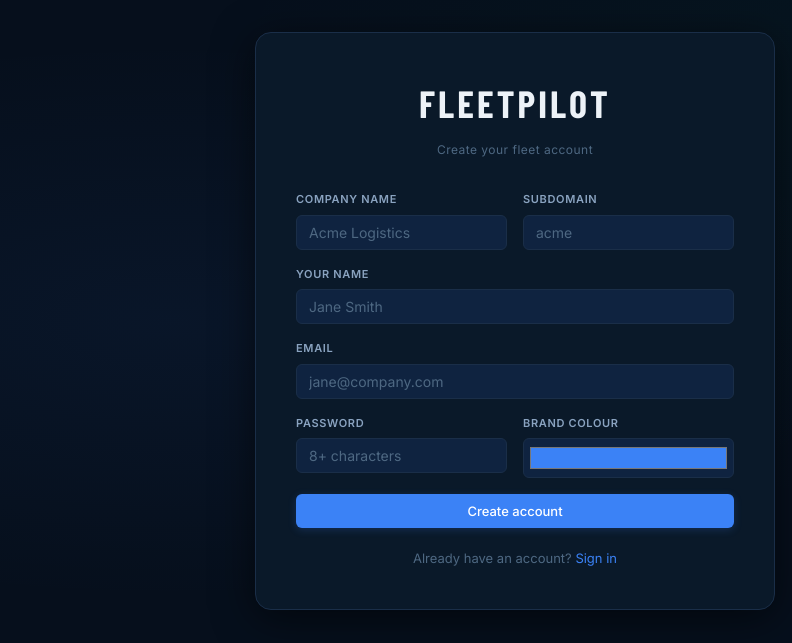
it: Register › shows server error message on failed registration
The image size is (792, 643).
Step 1. Type "My Fleet" into the field with placeholder "Acme Logistics" → (402, 232), box [296,214,507,250]
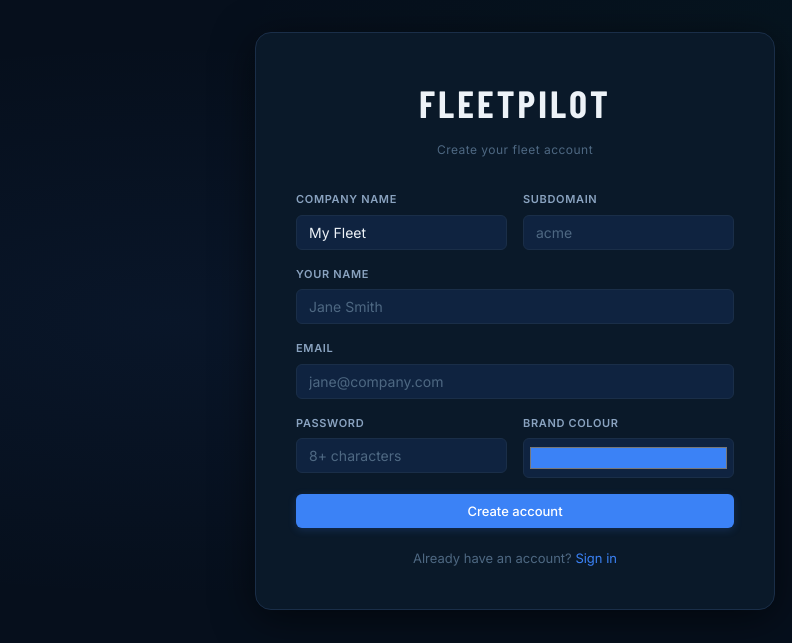
Step 2. Type "myfleet" into the field with placeholder "acme" → (628, 232), box [523,214,734,250]
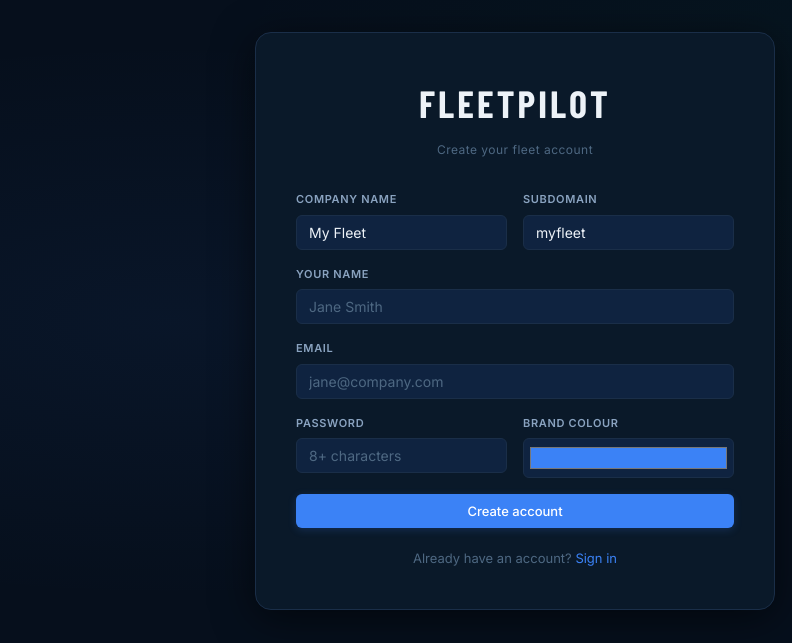
Step 3. Type "Jane Doe" into the field with placeholder "Jane Smith" → (515, 307), box [296,289,734,324]
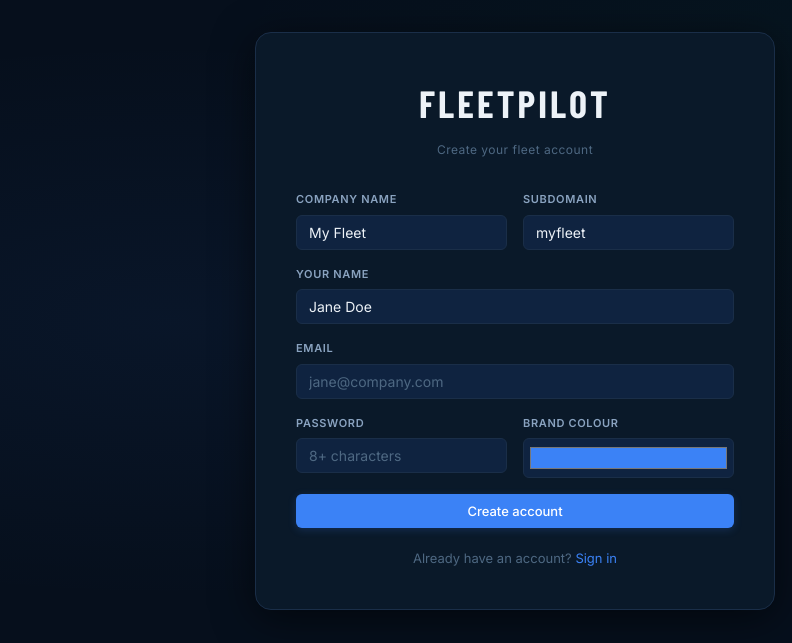
Step 4. Type "jane@myfleet.com" into the field with placeholder "jane@company.com" → (515, 381), box [296,364,734,399]
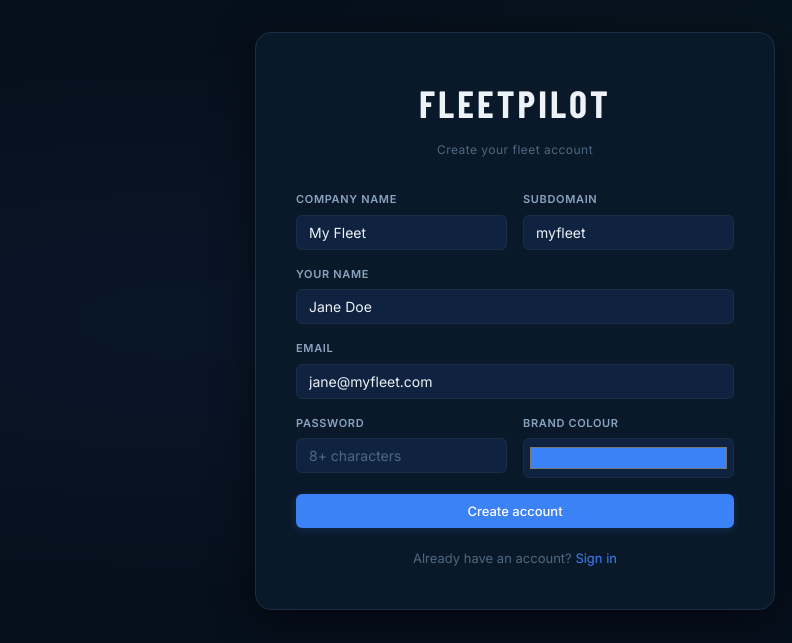
Step 5. Type "Password1!" into the password field with placeholder "8+ characters" → (402, 456), box [296,438,507,473]
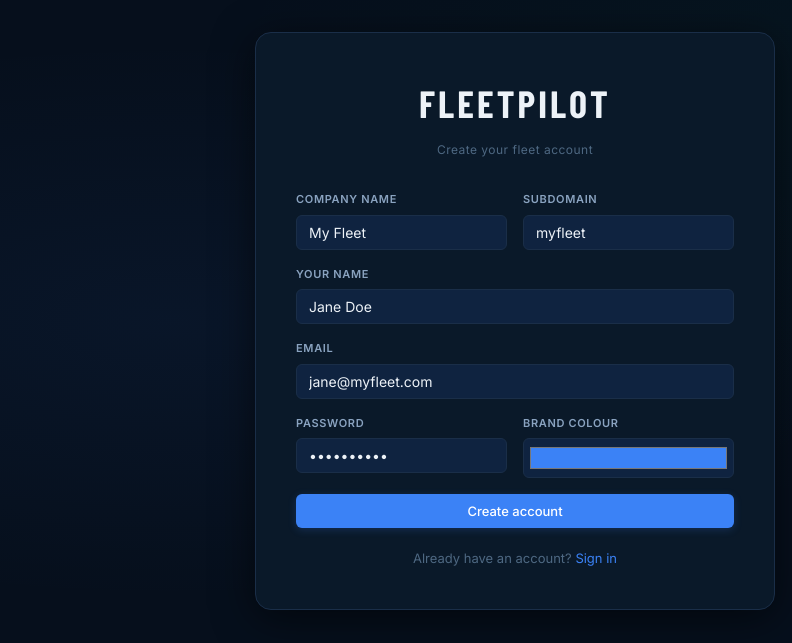
Step 6. Click the button "Create account" → (515, 511), box [296,494,734,528]
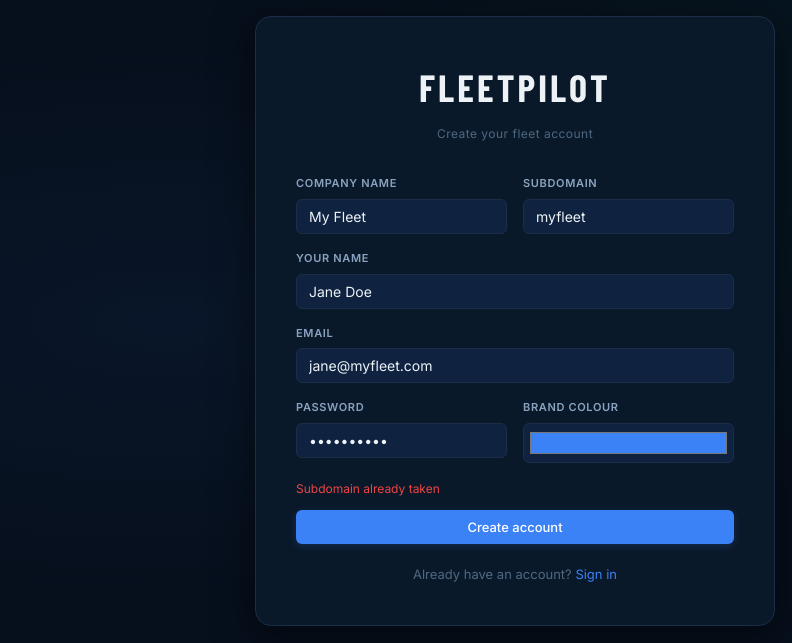
Result: the text "Subdomain already taken" is shown at [296,481,440,496]
